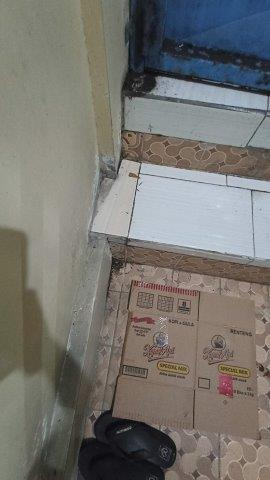kardus: (113, 282, 258, 436)
